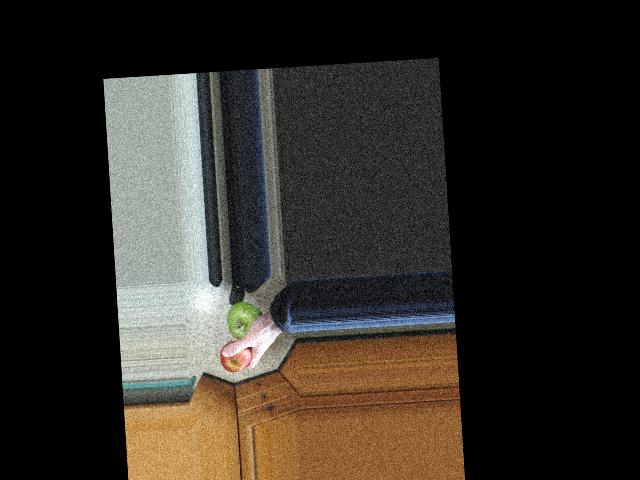apple: (223, 298, 267, 341)
